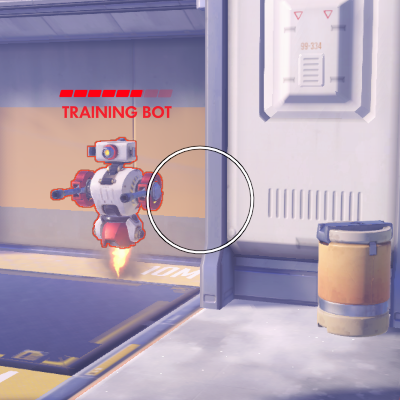hpbar: (59, 89, 173, 98)
